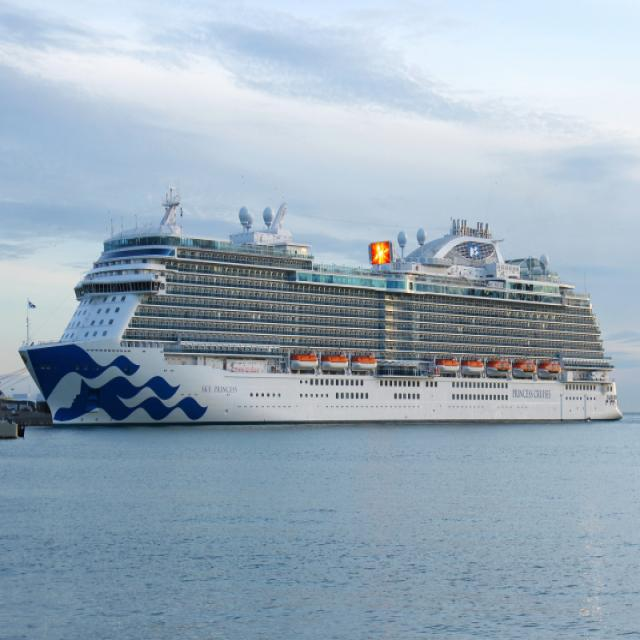cruises: (17, 186, 624, 432)
